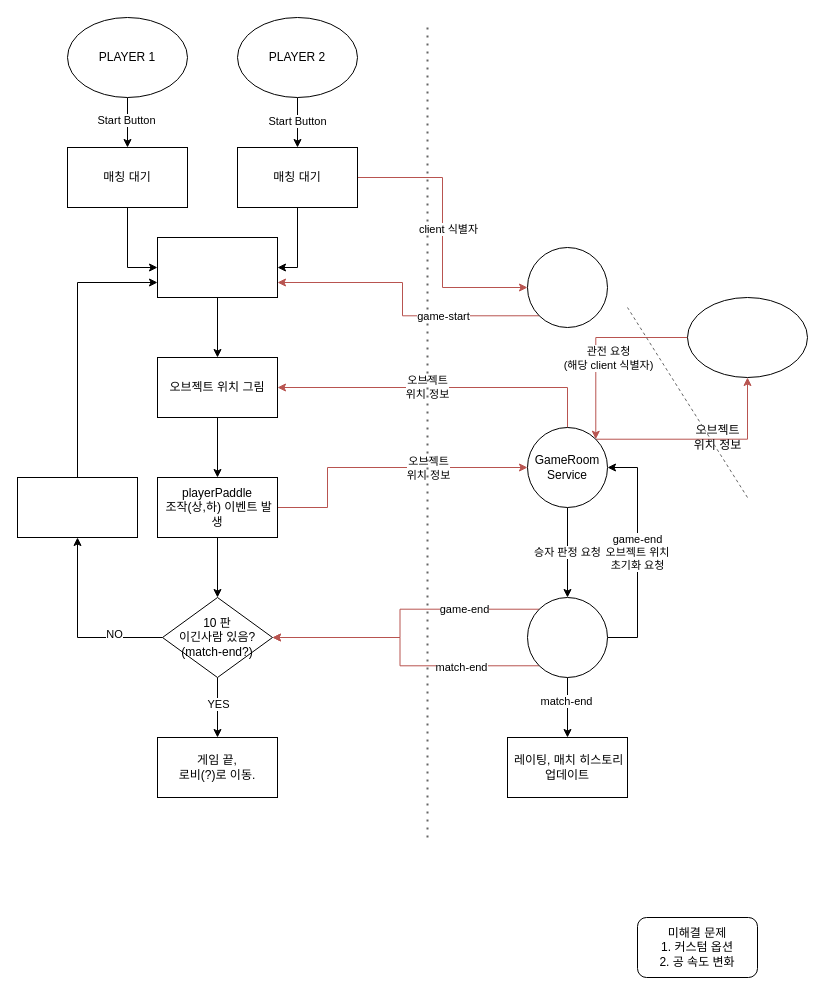
The diagram is 825 pixels wide and 995 high, and some of its shapes have lost their labels. Here are the shapes that lost their labels. From the top down, the box of each, then its label:
(156, 236, 278, 298): 게임 시작
(526, 246, 608, 328): Match Service
(686, 296, 808, 378): 관전자
(16, 476, 138, 538): score board 갱신
(526, 596, 608, 678): Refree Service
